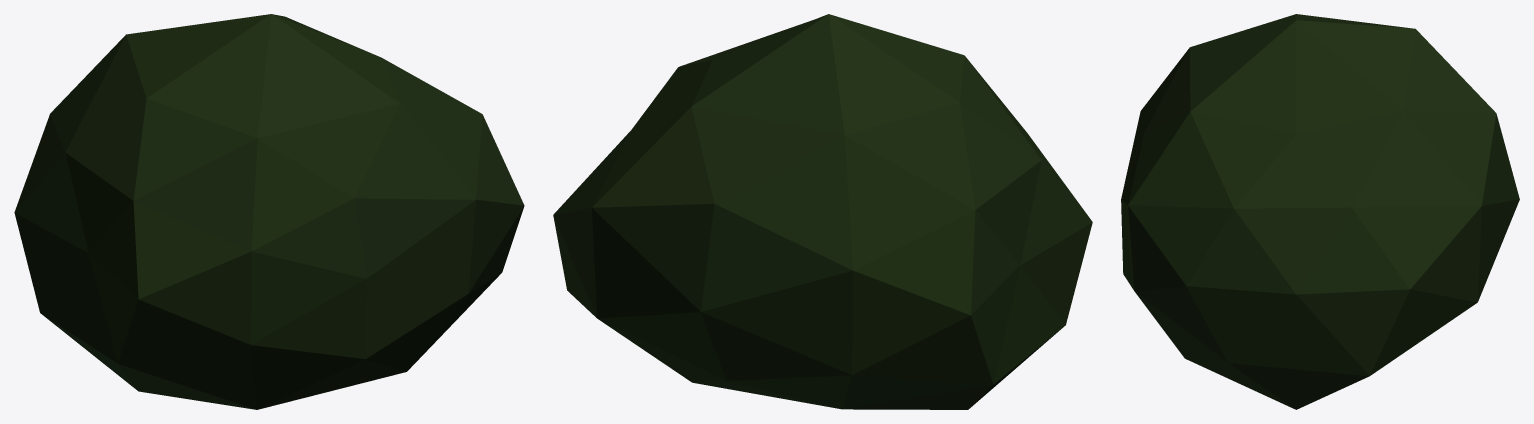
File: 1990-Low-poly-plant-models-bush.glb
The picture shows the model from 3 angles, left to right: view 1: azimuth 30°, elevation 25°; view 2: azimuth 150°, elevation 25°; view 3: azimuth 270°, elevation 25°; orthographic projection. The views are drawn at different scales.
Visible parts, largest first — view 1: Low-poly plant models/bush; view 2: Low-poly plant models/bush; view 3: Low-poly plant models/bush.
Boxes of the visible parts, x1=… form: Low-poly plant models/bush: x1=14, y1=14, x2=524, y2=409; Low-poly plant models/bush: x1=553, y1=14, x2=1092, y2=409; Low-poly plant models/bush: x1=1121, y1=14, x2=1519, y2=409.
Bounding box in the file's own units: 0.5498 × 0.4621 × 0.5061.
